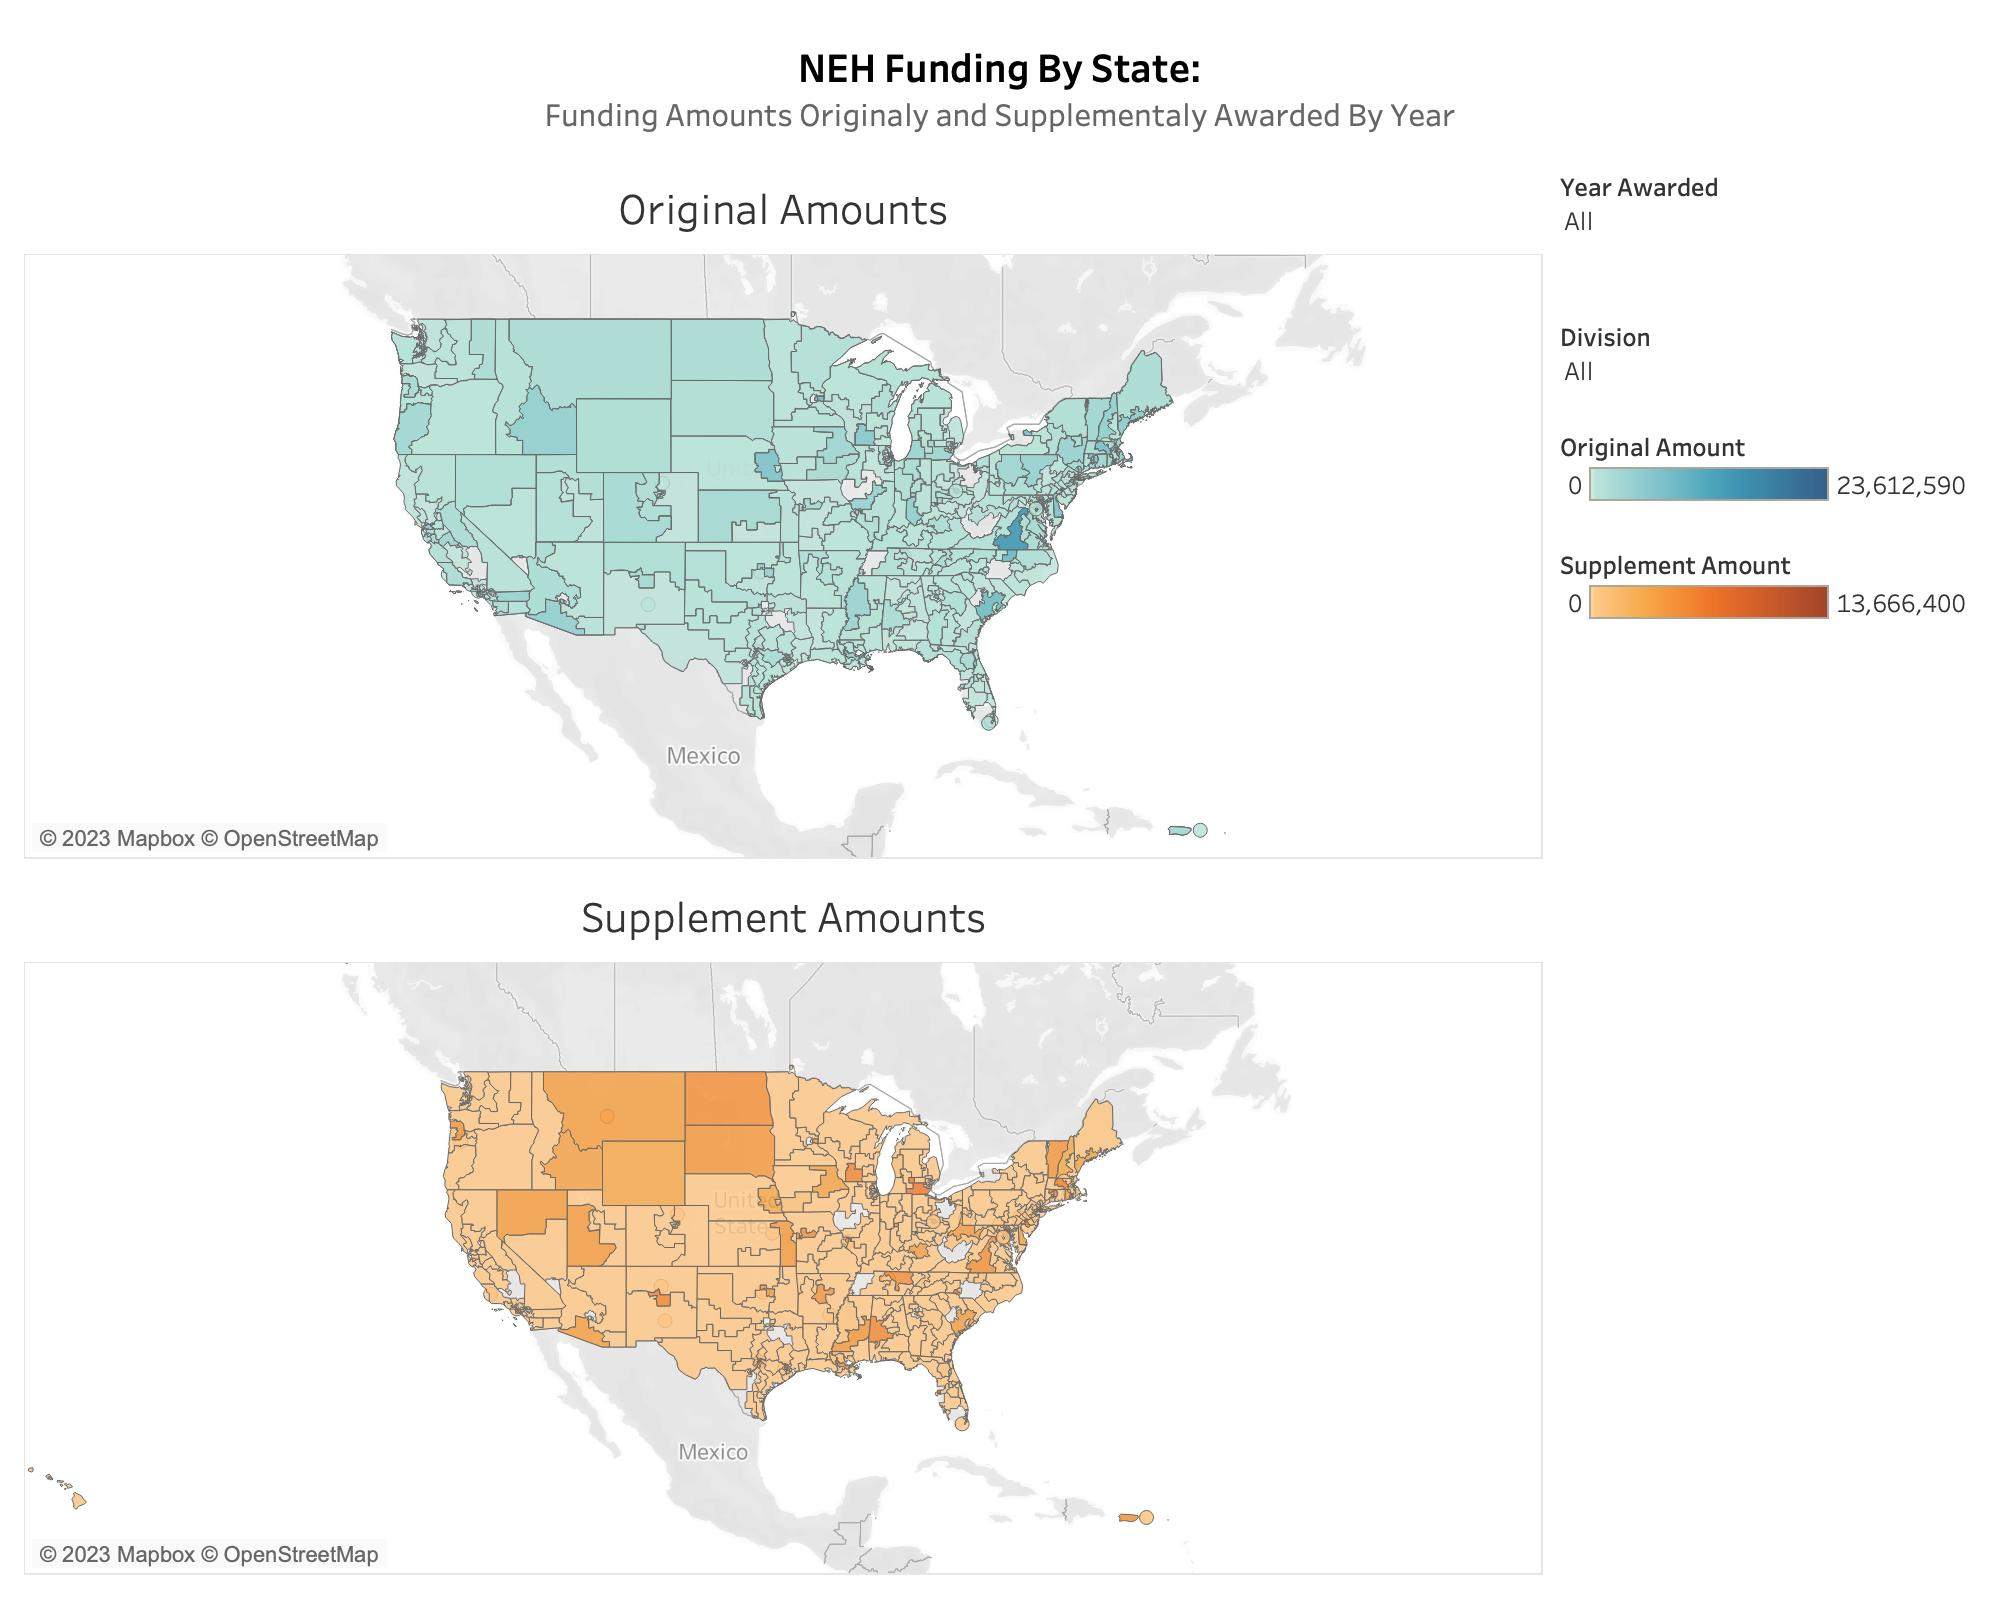

What the dashboard file says about the page in this screenshot:
{"tool":"tableau","page":{"name":"Dashboard 2","canvas":[1000,800],"ordinal":0},"visuals":[{"type":"text","box":[8,8,984,72]},{"type":"worksheet","title":"NEH Funding By State","mark":"Multipolygon","rows":["Latitude"],"cols":["Longitude"],"box":[8,80,768,354]},{"type":"filter","title":" NEH Funding By State","param":"[federated.1866abq161c920178xzlw1ee5xry].[yr:YearAwarded:ok]","box":[776,80,216,75]},{"type":"filter","title":" NEH Funding By State","param":"[federated.1866abq161c920178xzlw1ee5xry].[none:Division:nk]","box":[776,155,216,52]},{"type":"legend","title":"NEH Funding By State","param":"[federated.1866abq161c920178xzlw1ee5xry].[sum:OriginalAmount:qk]","box":[776,207,216,59]},{"type":"legend","title":" NEH Funding By State","param":"[federated.1866abq161c920178xzlw1ee5xry].[sum:SupplementAmount:qk]","box":[776,266,216,65]},{"type":"worksheet","title":" NEH Funding By State","mark":"Multipolygon","rows":["Latitude"],"cols":["Longitude"],"box":[8,434,768,358]}]}

Visuals, with their boxes in screenshot pixels (x1, y1, x2, y2), scaled from the page's 1000x800 canvas onto the 2000x1600 screenshot:
text: [16, 16, 1984, 160]
"NEH Funding By State" worksheet (Multipolygon marks): [16, 160, 1552, 868]
" NEH Funding By State" filter: [1552, 160, 1984, 310]
" NEH Funding By State" filter: [1552, 310, 1984, 414]
"NEH Funding By State" legend: [1552, 414, 1984, 532]
" NEH Funding By State" legend: [1552, 532, 1984, 662]
" NEH Funding By State" worksheet (Multipolygon marks): [16, 868, 1552, 1584]
